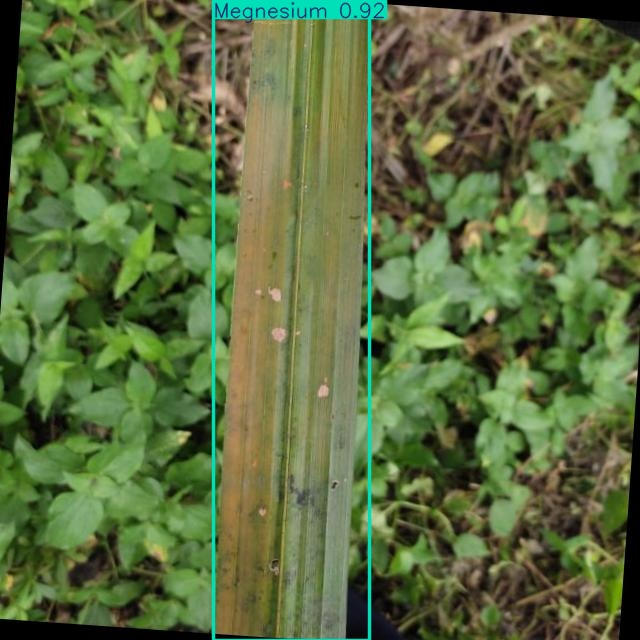Megnesium: (214, 0, 369, 640)
